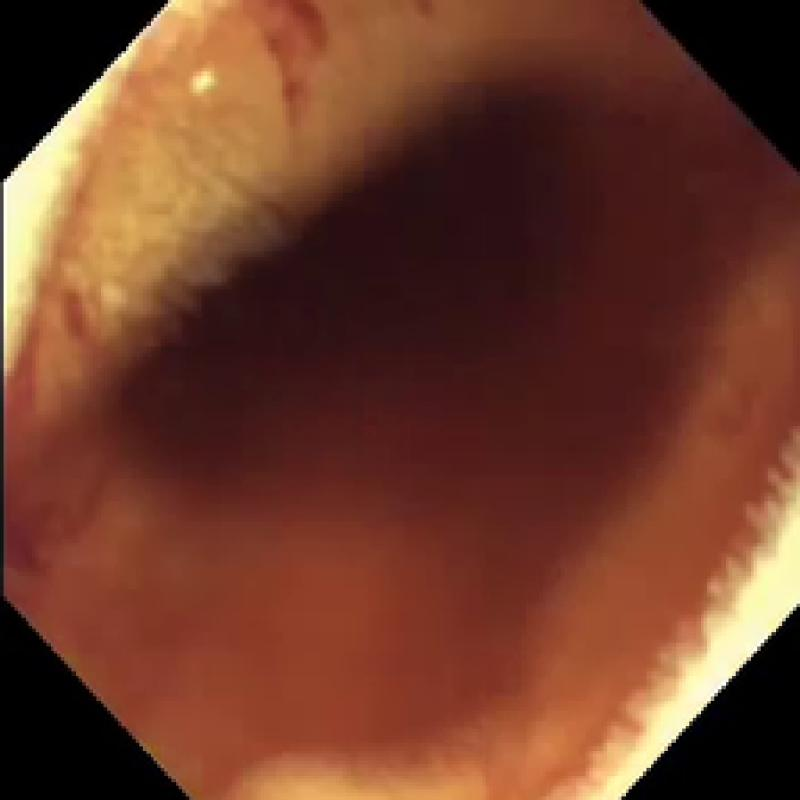bleeding: (2, 0, 735, 800)
